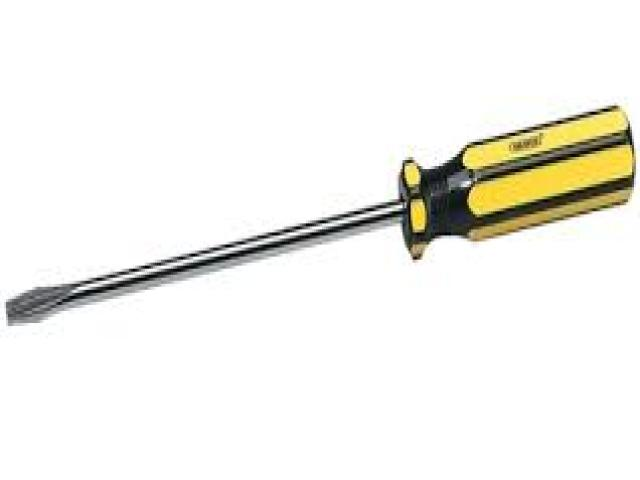Screwdriver: (6, 107, 635, 323)
